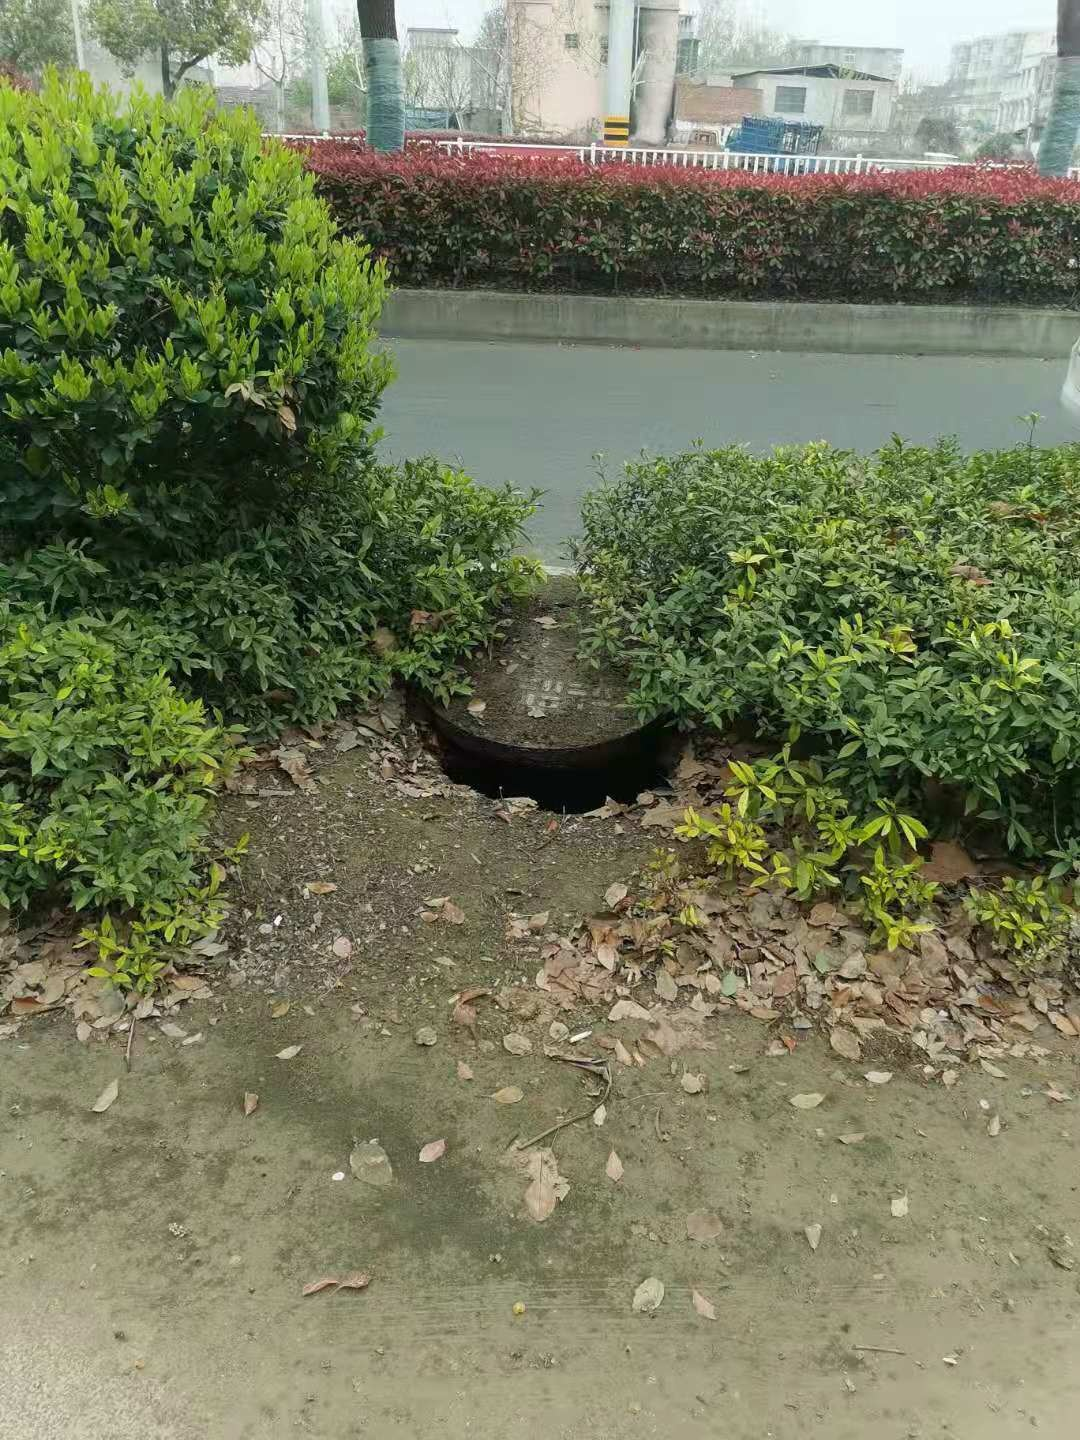uncovered: (402, 613, 686, 822)
